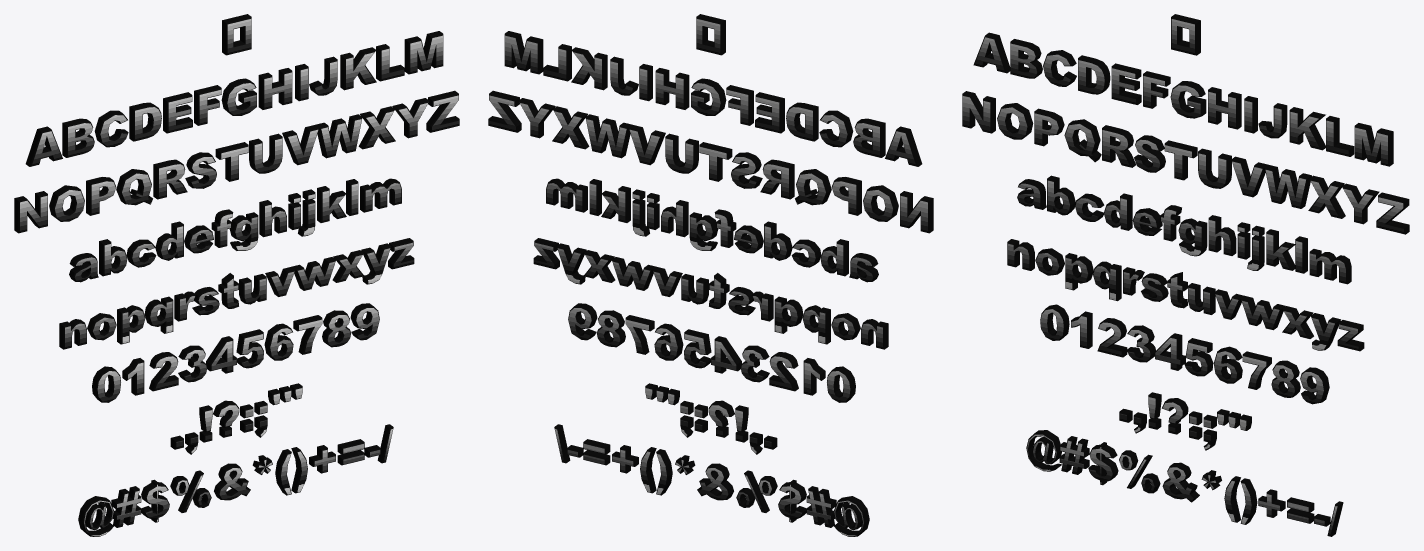
The model's file is font.blocky.fbx.
3 renders of one model, left to right at view 1: azimuth 30°, elevation 25°; view 2: azimuth 150°, elevation 25°; view 3: azimuth 330°, elevation 25°, orthographic.
Parts seen in each view (by area): view 1: MESH blocky.upper.m, MESH blocky.upper.w, MESH blocky.symbol.at, MESH blocky.upper.h, MESH blocky.upper.n, MESH blocky.upper.b, MESH blocky.upper.k, MESH blocky.lower.m, MESH blocky.upper.g, MESH blocky.upper.r, MESH blocky.upper.d, MESH blocky.upper.e (+56 smaller); view 2: MESH blocky.upper.m, MESH blocky.upper.w, MESH blocky.symbol.at, MESH blocky.upper.h, MESH blocky.upper.n, MESH blocky.upper.b, MESH blocky.upper.k, MESH blocky.lower.m, MESH blocky.upper.g, MESH blocky.upper.r, MESH blocky.upper.d, MESH blocky.upper.e (+56 smaller); view 3: MESH blocky.upper.m, MESH blocky.upper.w, MESH blocky.upper.n, MESH blocky.symbol.at, MESH blocky.upper.b, MESH blocky.upper.k, MESH blocky.upper.r, MESH blocky.lower.m, MESH blocky.upper.h, MESH blocky.upper.q, MESH blocky.upper.g, MESH blocky.upper.e (+56 smaller).
Boxes of the visible parts, bbox=[...] form: MESH blocky.upper.m: bbox=[404, 31, 443, 74]; MESH blocky.upper.w: bbox=[316, 114, 362, 158]; MESH blocky.symbol.at: bbox=[78, 496, 114, 536]; MESH blocky.upper.h: bbox=[258, 68, 292, 109]; MESH blocky.upper.n: bbox=[14, 191, 47, 233]; MESH blocky.upper.b: bbox=[62, 118, 94, 157]; MESH blocky.upper.k: bbox=[340, 47, 376, 90]; MESH blocky.lower.m: bbox=[360, 178, 401, 212]; MESH blocky.upper.g: bbox=[221, 78, 256, 115]; MESH blocky.upper.r: bbox=[153, 159, 187, 199]; MESH blocky.upper.d: bbox=[129, 102, 161, 141]; MESH blocky.upper.e: bbox=[163, 92, 192, 133]; MESH blocky.upper.m: bbox=[504, 31, 543, 74]; MESH blocky.upper.w: bbox=[585, 114, 631, 158]; MESH blocky.symbol.at: bbox=[833, 496, 869, 536]; MESH blocky.upper.h: bbox=[655, 68, 689, 109]; MESH blocky.upper.n: bbox=[900, 191, 933, 233]; MESH blocky.upper.b: bbox=[853, 118, 885, 157]; MESH blocky.upper.k: bbox=[571, 47, 607, 90]; MESH blocky.lower.m: bbox=[546, 178, 587, 212]; MESH blocky.upper.g: bbox=[691, 78, 726, 115]; MESH blocky.upper.r: bbox=[760, 159, 794, 199]; MESH blocky.upper.d: bbox=[786, 102, 818, 141]; MESH blocky.upper.e: bbox=[755, 92, 784, 133]; MESH blocky.upper.m: bbox=[1354, 123, 1393, 166]; MESH blocky.upper.w: bbox=[1265, 165, 1311, 208]; MESH blocky.upper.n: bbox=[962, 91, 995, 133]; MESH blocky.symbol.at: bbox=[1026, 430, 1062, 471]; MESH blocky.upper.b: bbox=[1010, 39, 1042, 78]; MESH blocky.upper.k: bbox=[1289, 107, 1325, 150]; MESH blocky.upper.r: bbox=[1102, 125, 1136, 167]; MESH blocky.lower.m: bbox=[1309, 249, 1351, 284]; MESH blocky.upper.h: bbox=[1208, 87, 1241, 129]; MESH blocky.upper.q: bbox=[1064, 119, 1101, 162]; MESH blocky.upper.g: bbox=[1170, 81, 1206, 118]; MESH blocky.upper.e: bbox=[1111, 63, 1141, 104].
Bounding box in the file's own units: 1451 × 29.79 × 1531.
Materials: 2 (1 with a texture image).
